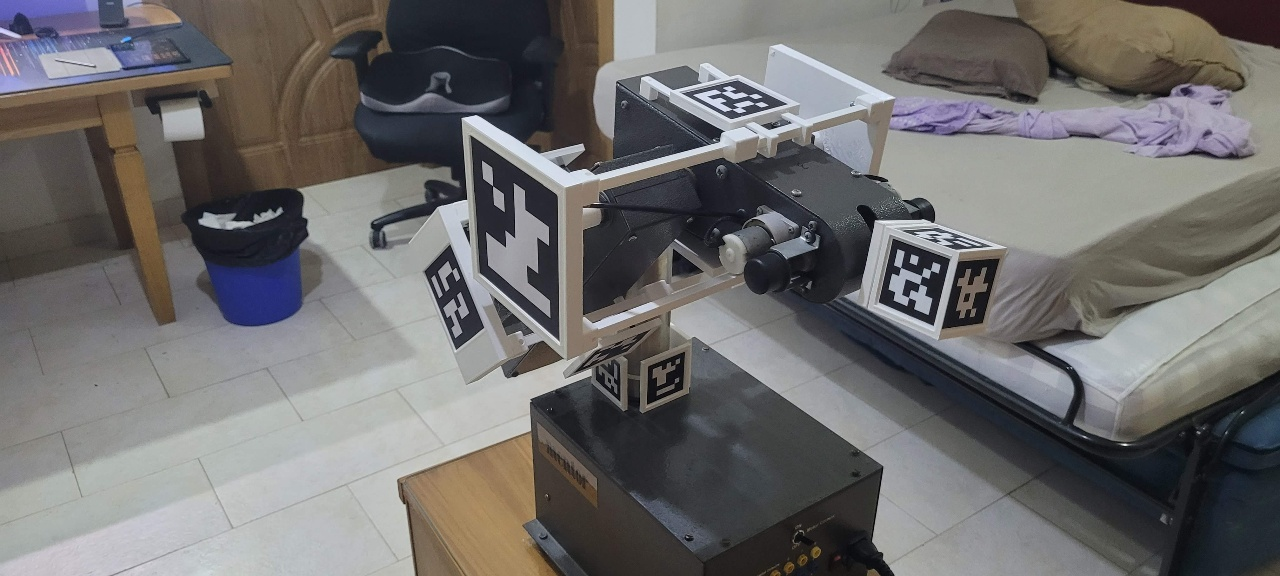Robot: (404, 42, 1008, 417)
